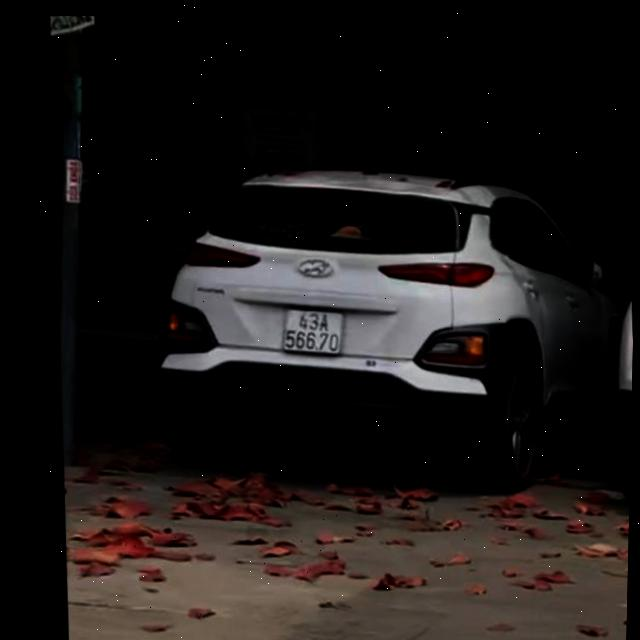car: (153, 118, 638, 499)
plate: (272, 296, 353, 364)
